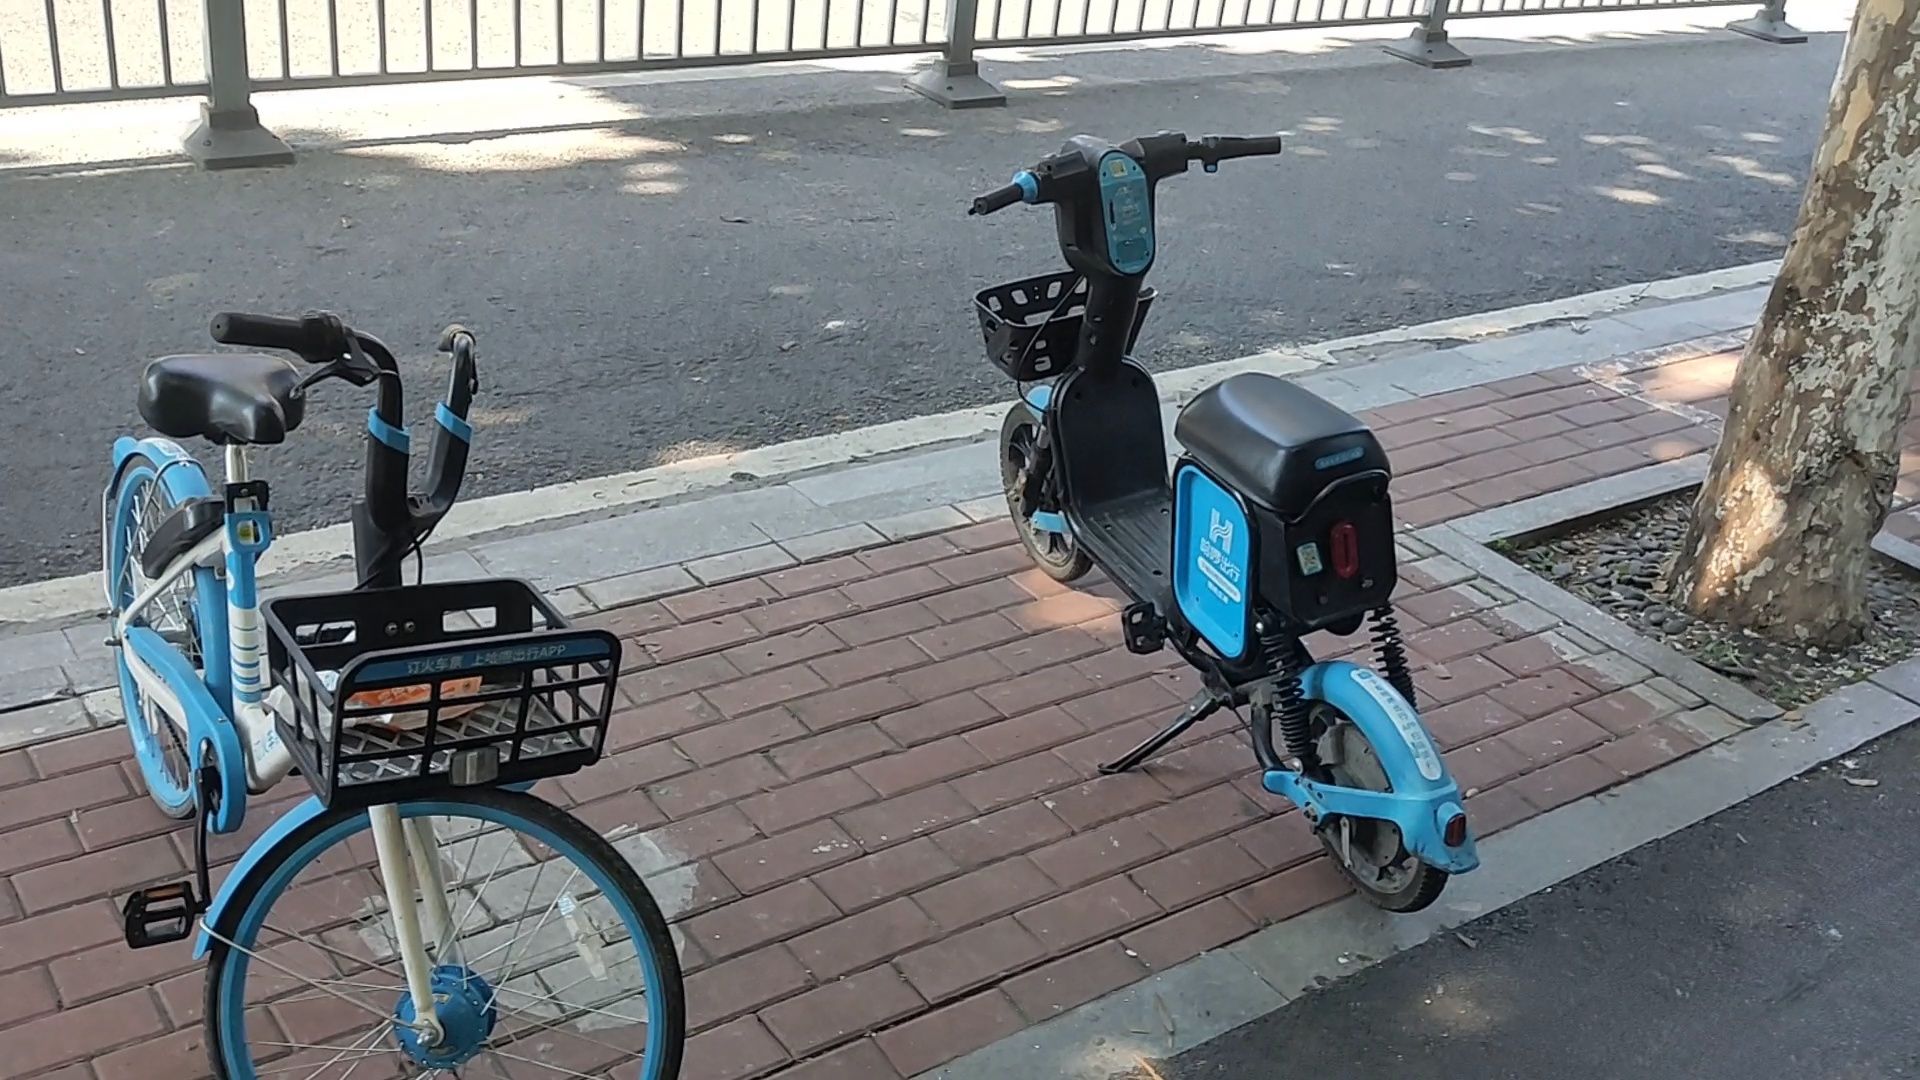non-vehicle: (65, 295, 669, 1080), (957, 111, 1490, 920)
